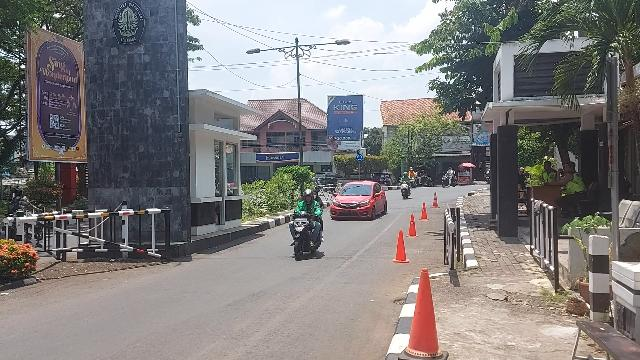helm: (304, 191, 315, 204), (405, 172, 410, 178)
motor: (288, 206, 327, 262), (400, 180, 413, 201)
non-helm: (313, 190, 320, 201)
